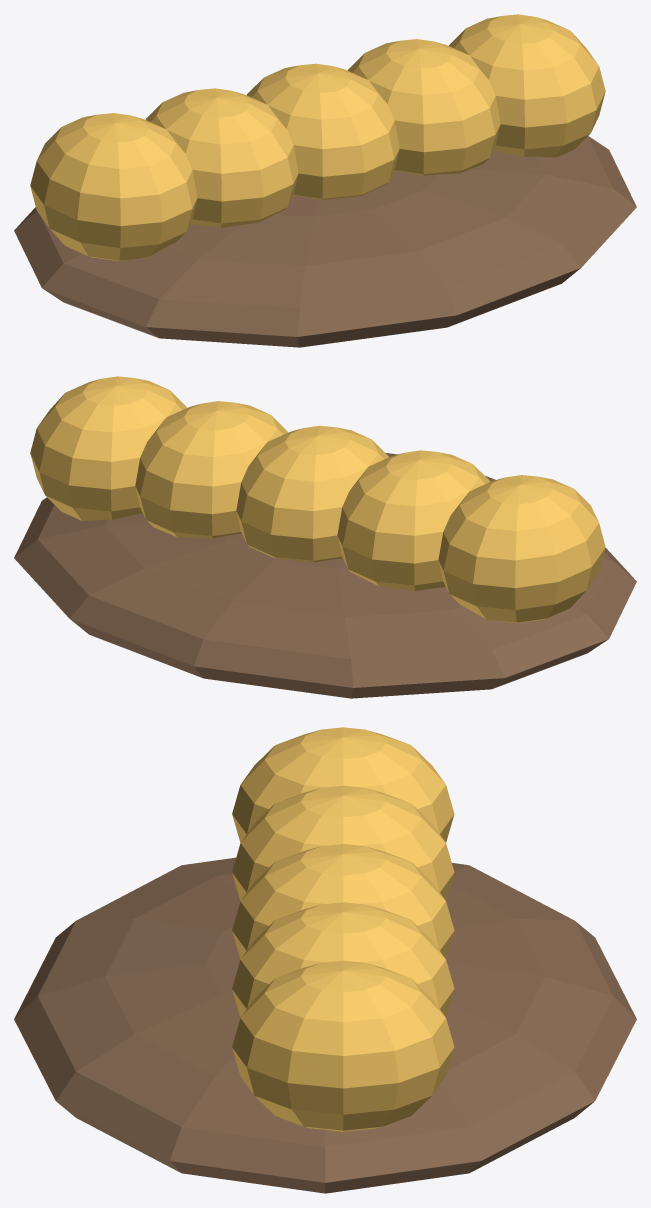
File: Pile3.fbx
The picture shows the model from 3 angles, top to bottom: view 1: azimuth 30°, elevation 25°; view 2: azimuth 150°, elevation 25°; view 3: azimuth 270°, elevation 25°; orthographic projection. The views are drawn at different scales.
Visible parts, largest first — view 1: Worksite soil bed.001, Grain heap.004, Grain heap.008, Grain heap.005, Grain heap.007, Grain heap.006; view 2: Worksite soil bed.001, Grain heap.004, Grain heap.008, Grain heap.005, Grain heap.007, Grain heap.006; view 3: Worksite soil bed.001, Grain heap.008, Grain heap.006, Grain heap.007, Grain heap.004, Grain heap.005.
Boxes of the visible parts, left/top/right/bottom form: Worksite soil bed.001: left=14, top=136, right=636, bottom=347; Grain heap.004: left=30, top=113, right=197, bottom=260; Grain heap.008: left=449, top=14, right=605, bottom=157; Grain heap.005: left=145, top=88, right=298, bottom=227; Grain heap.007: left=348, top=39, right=500, bottom=175; Grain heap.006: left=247, top=63, right=399, bottom=199; Worksite soil bed.001: left=14, top=453, right=636, bottom=698; Grain heap.004: left=438, top=475, right=605, bottom=623; Grain heap.008: left=30, top=376, right=186, bottom=520; Grain heap.005: left=337, top=450, right=490, bottom=590; Grain heap.007: left=135, top=401, right=287, bottom=538; Grain heap.006: left=236, top=425, right=388, bottom=562; Worksite soil bed.001: left=14, top=857, right=636, bottom=1193; Grain heap.008: left=232, top=960, right=454, bottom=1131; Grain heap.006: left=232, top=844, right=454, bottom=959; Grain heap.007: left=232, top=902, right=454, bottom=1017; Grain heap.004: left=232, top=727, right=454, bottom=842; Grain heap.005: left=232, top=785, right=454, bottom=900.
Bounding box in the file's own units: 174 × 56 × 140.
